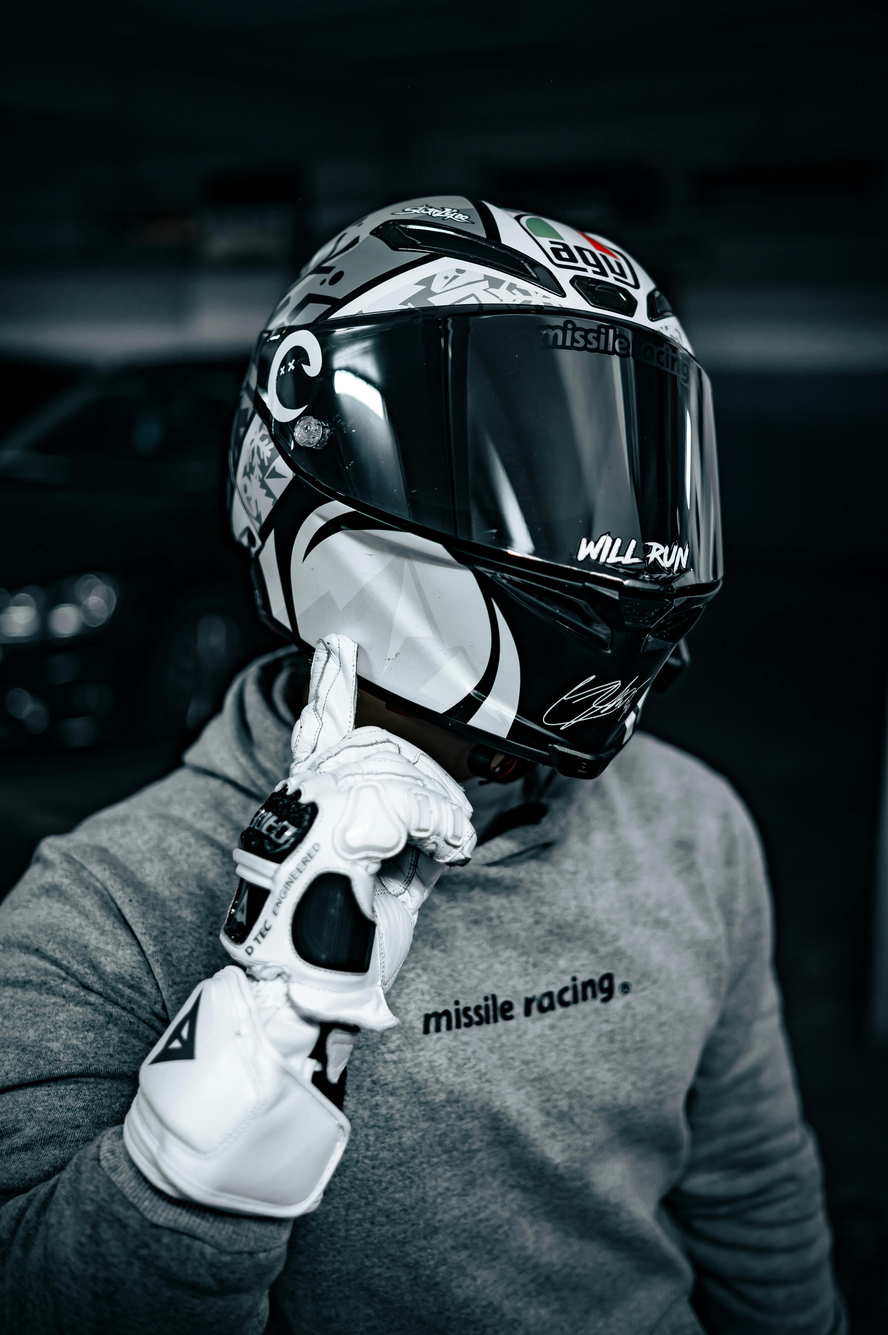Helmet: (231, 196, 722, 777)
